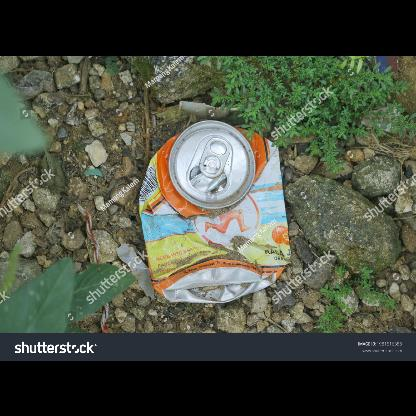Dent_Can: (143, 190, 293, 277), (154, 253, 277, 304), (142, 154, 185, 223), (238, 129, 278, 193)
Lid_Open: (183, 134, 237, 198)
Tin_Can: (132, 114, 300, 310)
